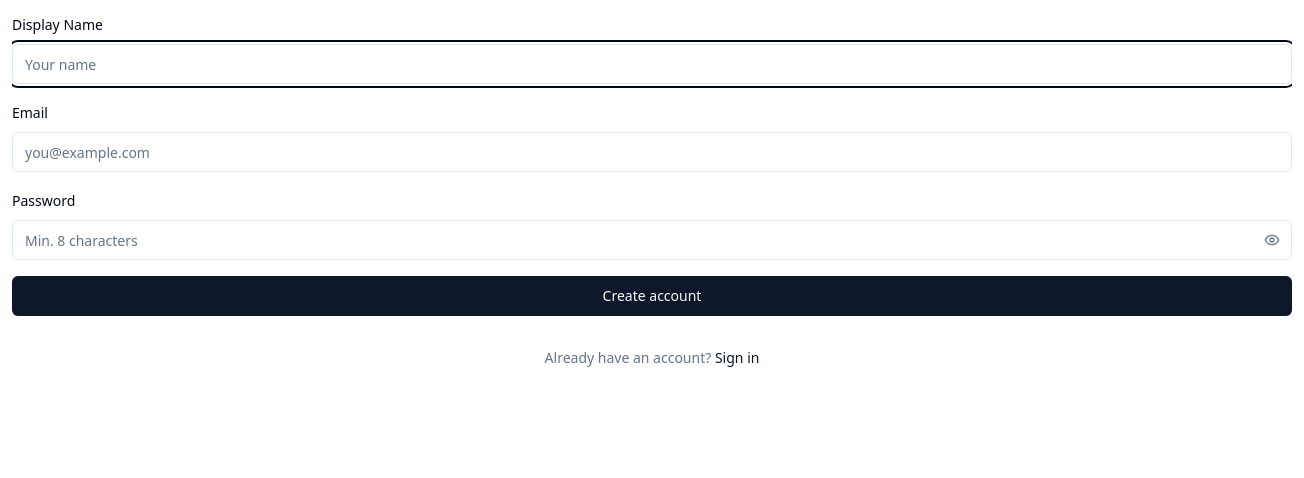
Test case: RegisterForm › shows error for short password
The image size is (1304, 478).
In the field labelled "Display Name": coordinates (652, 64) top-left (12, 44), bottom-right (1292, 84), type "Test User"
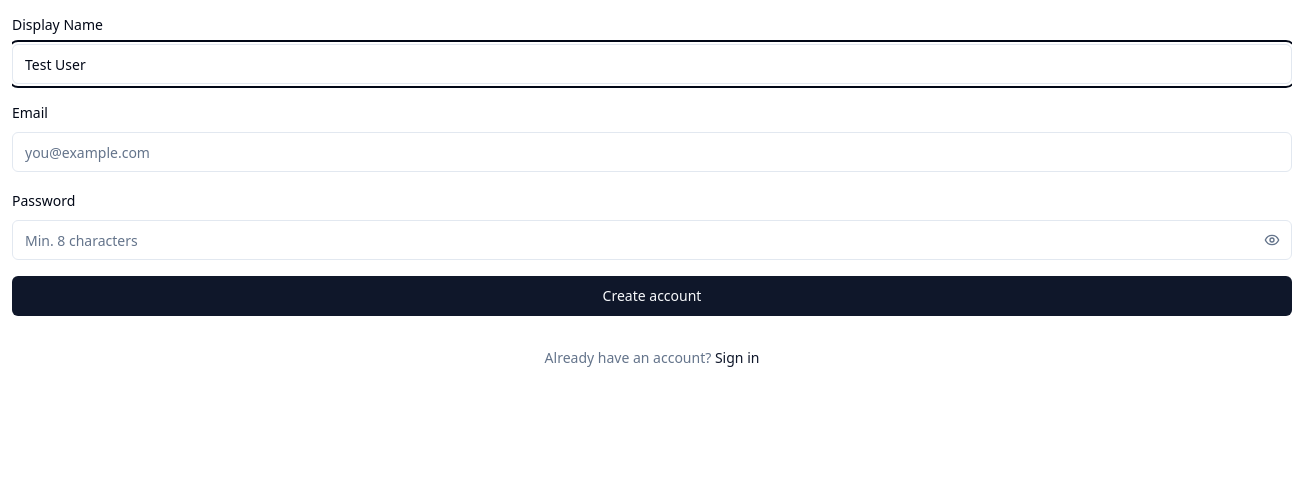
In the field labelled "Email": coordinates (652, 152) top-left (12, 132), bottom-right (1292, 172), type "new@example.com"
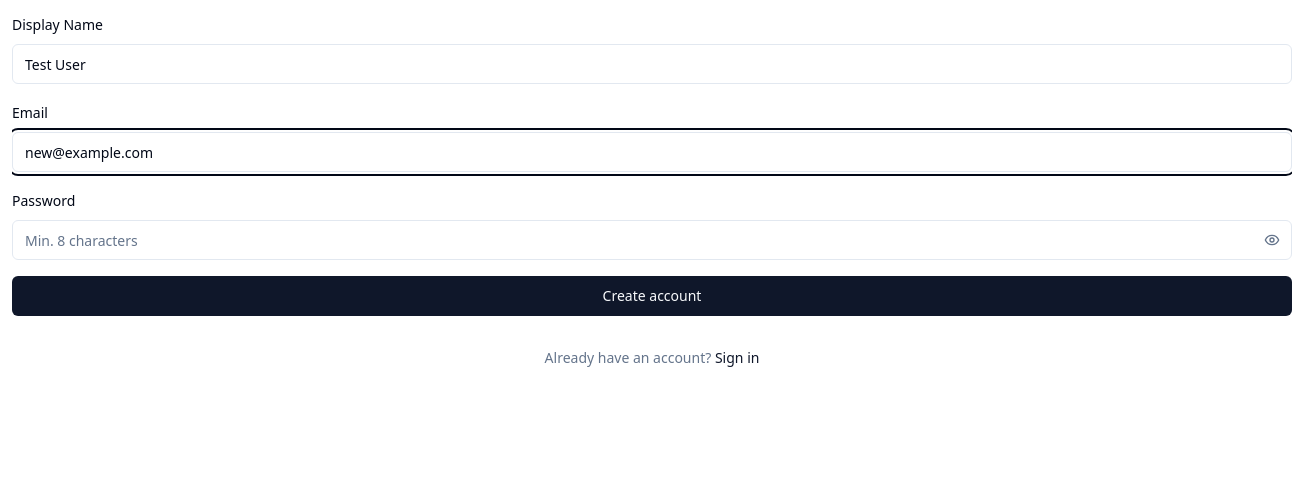
In the password field labelled "Password": coordinates (652, 240) top-left (12, 220), bottom-right (1292, 260), type "short"
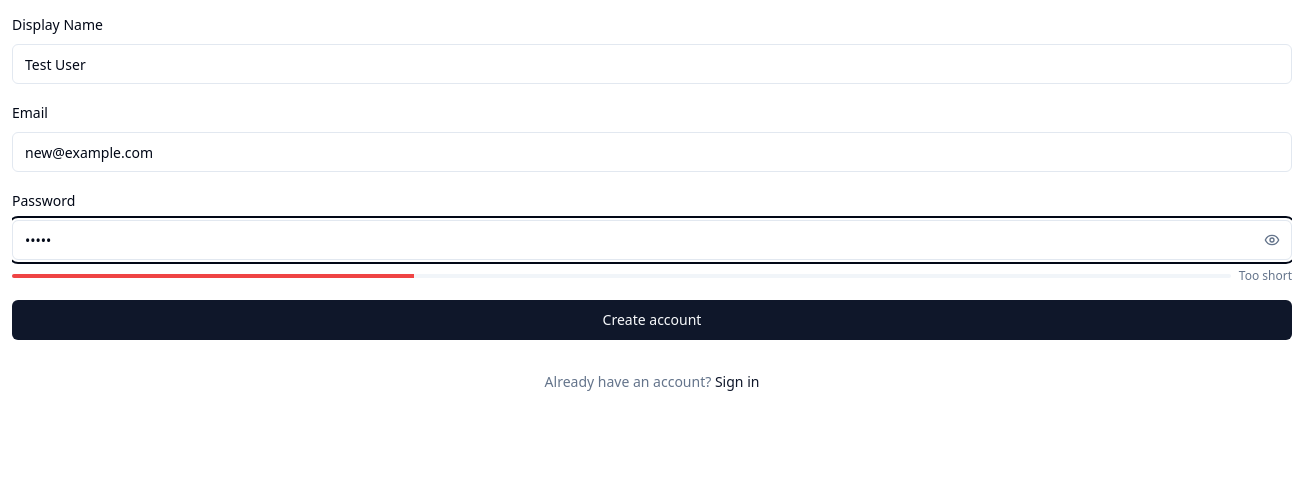
Click the button "Create account": coordinates (652, 320) top-left (12, 300), bottom-right (1292, 340)
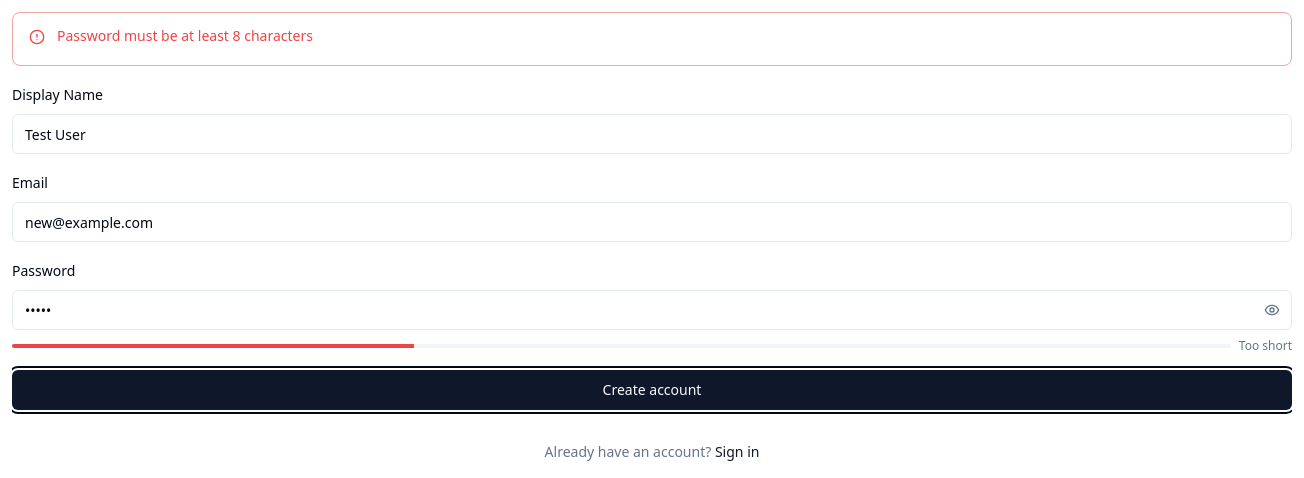
Result: the text "Password must be at least 8 characters" is shown at top-left (57, 26), bottom-right (313, 45)
